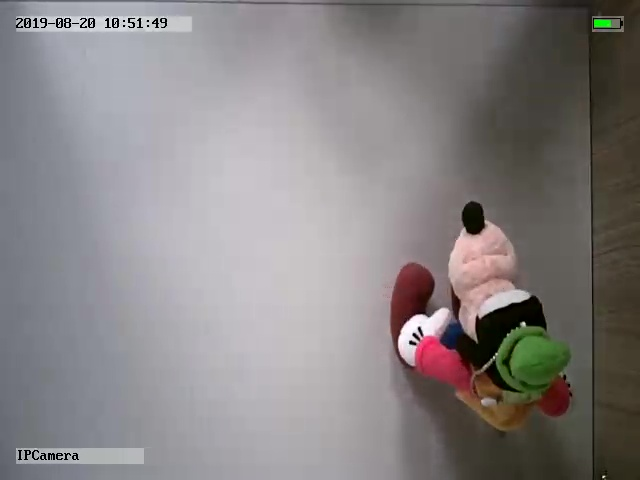goofy: (389, 199, 576, 429)
